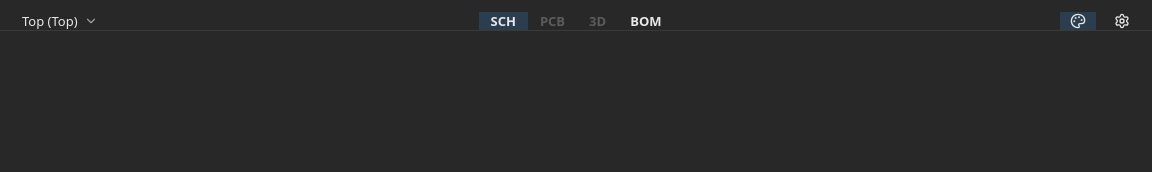
Test case: sheet picker lists every hierarchy node and selects by id
The image size is (1152, 172).
Click the button with aria-label "Sheet". click: (60, 21)
box: 12,12 -> 108,30
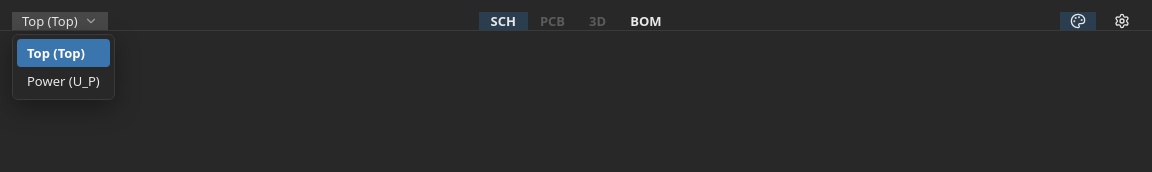
expect the options read "Top (Top)", "Power (U_P)", in this order: met
Click the option "Power (U_P)". click: (63, 81)
box: 27,72 -> 100,90
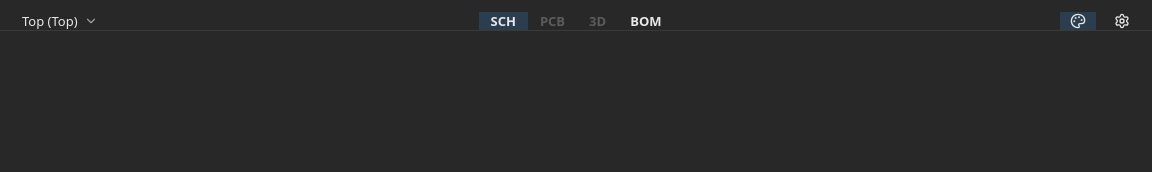
expect the list is gone: met
